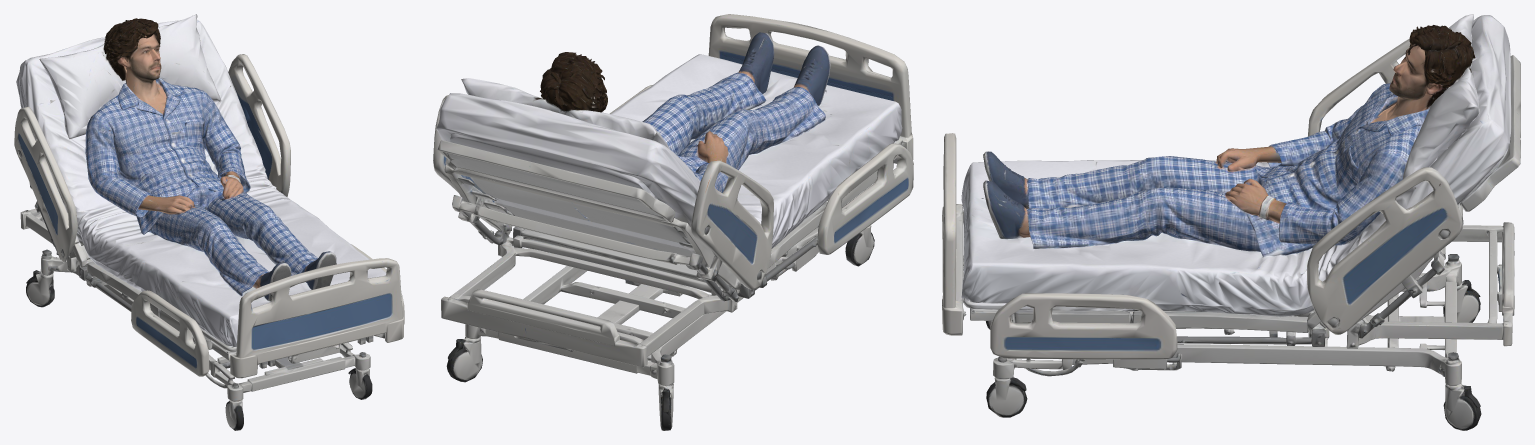
3 renders of one model, left to right at view 1: azimuth 30°, elevation 25°; view 2: azimuth 150°, elevation 25°; view 3: azimuth 270°, elevation 25°, orthographic. The views are drawn at different scales.
Parts seen in each view (by area): view 1: m1; view 2: m1; view 3: m1.
Part boxes in pixels (x1=…): m1: x1=14, y1=14, x2=404, y2=430; m1: x1=433, y1=14, x2=913, y2=430; m1: x1=942, y1=14, x2=1520, y2=430.
Size of the model in its own units: 1.11 by 1.28 by 1.9.
Materials: 1 (1 with a texture image).
